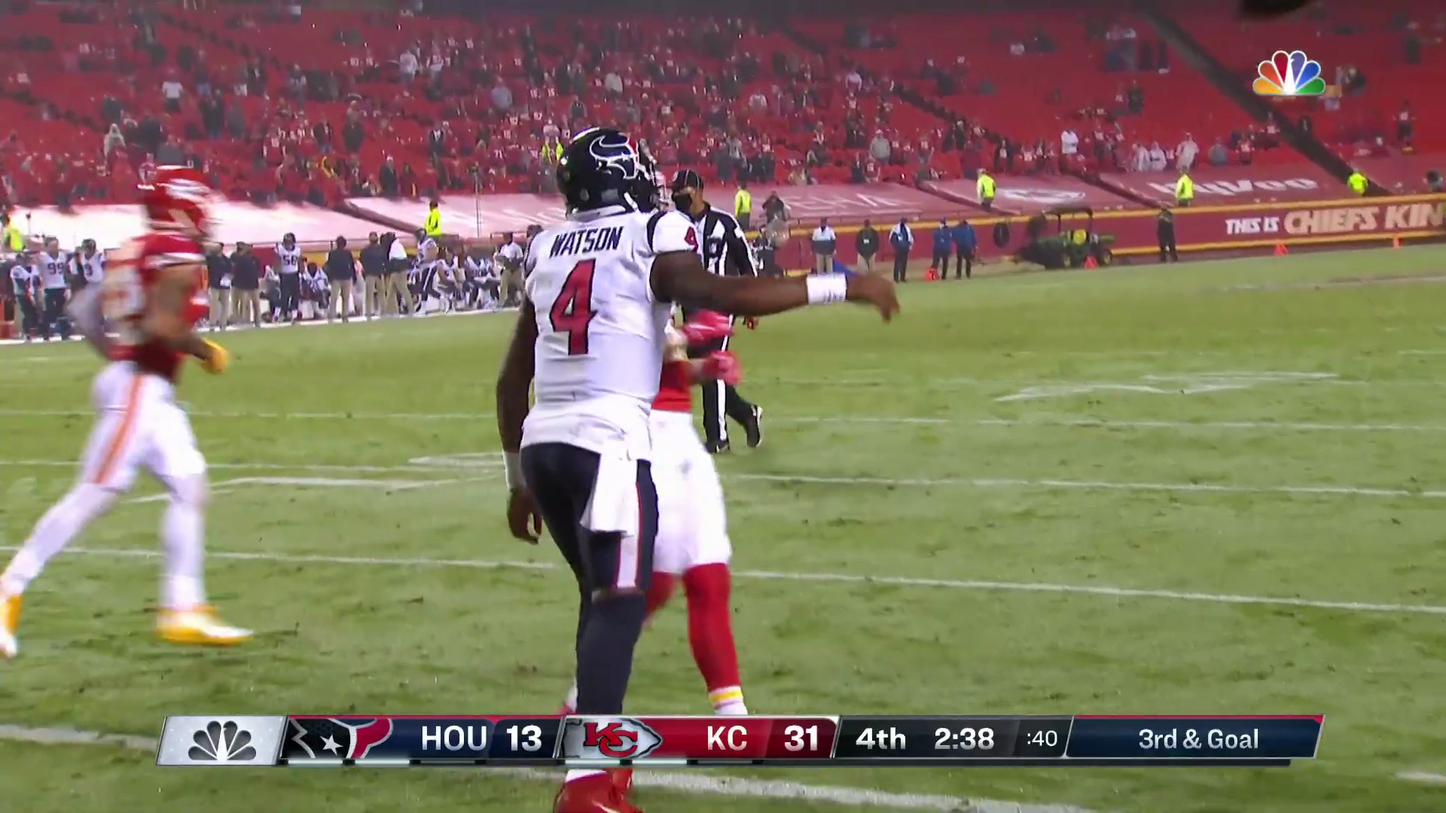Player: (517, 109, 670, 628)
